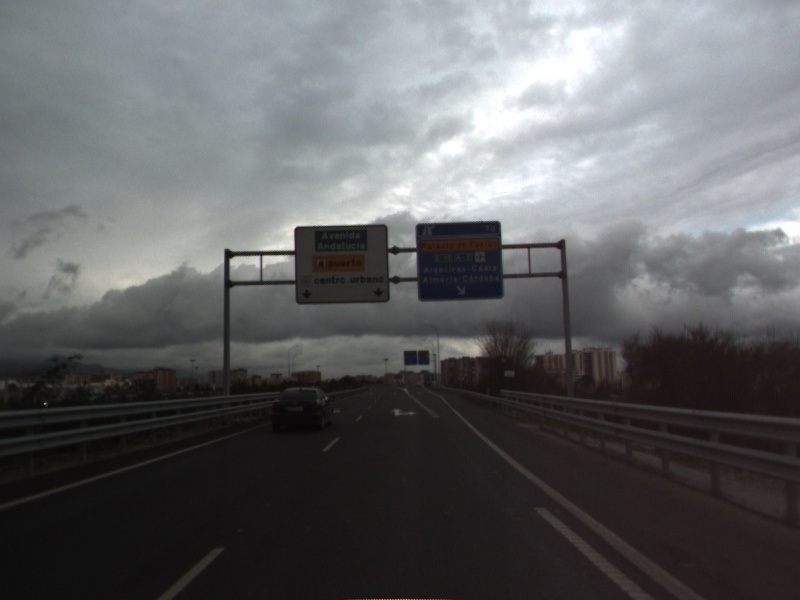STRAIGHT_RIGHT: (389, 406, 418, 418)
